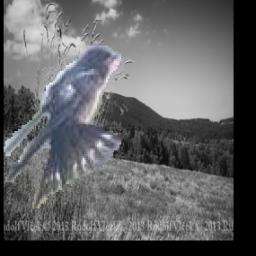Swallow: (4, 47, 124, 212)
